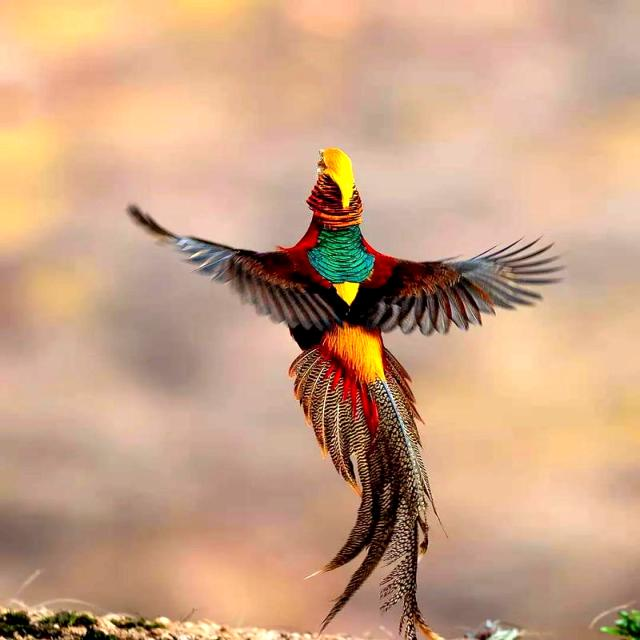Chrysolophus pictus feather: (289, 347, 446, 640)
